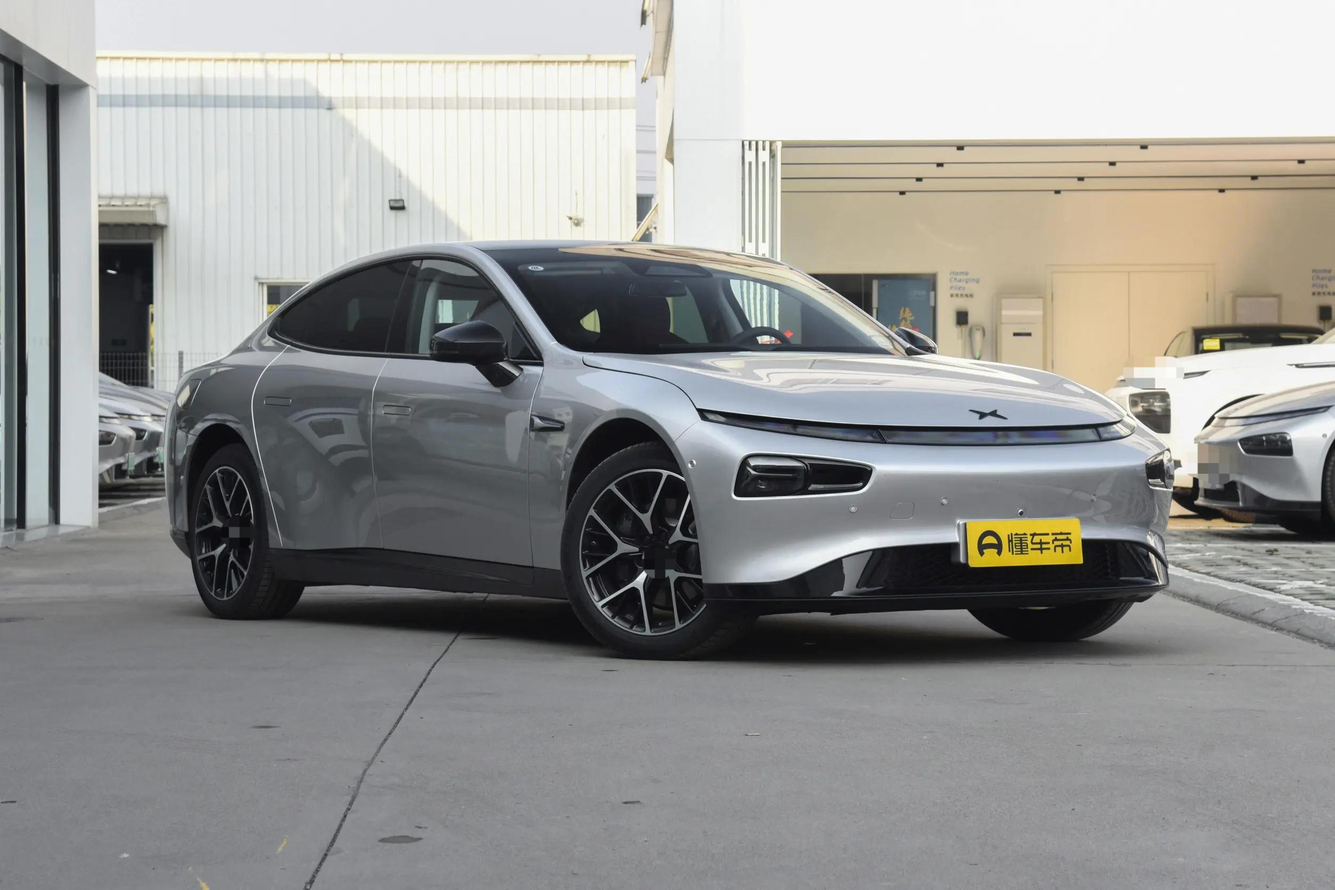XPeng Motors: (968, 409, 1008, 420)
